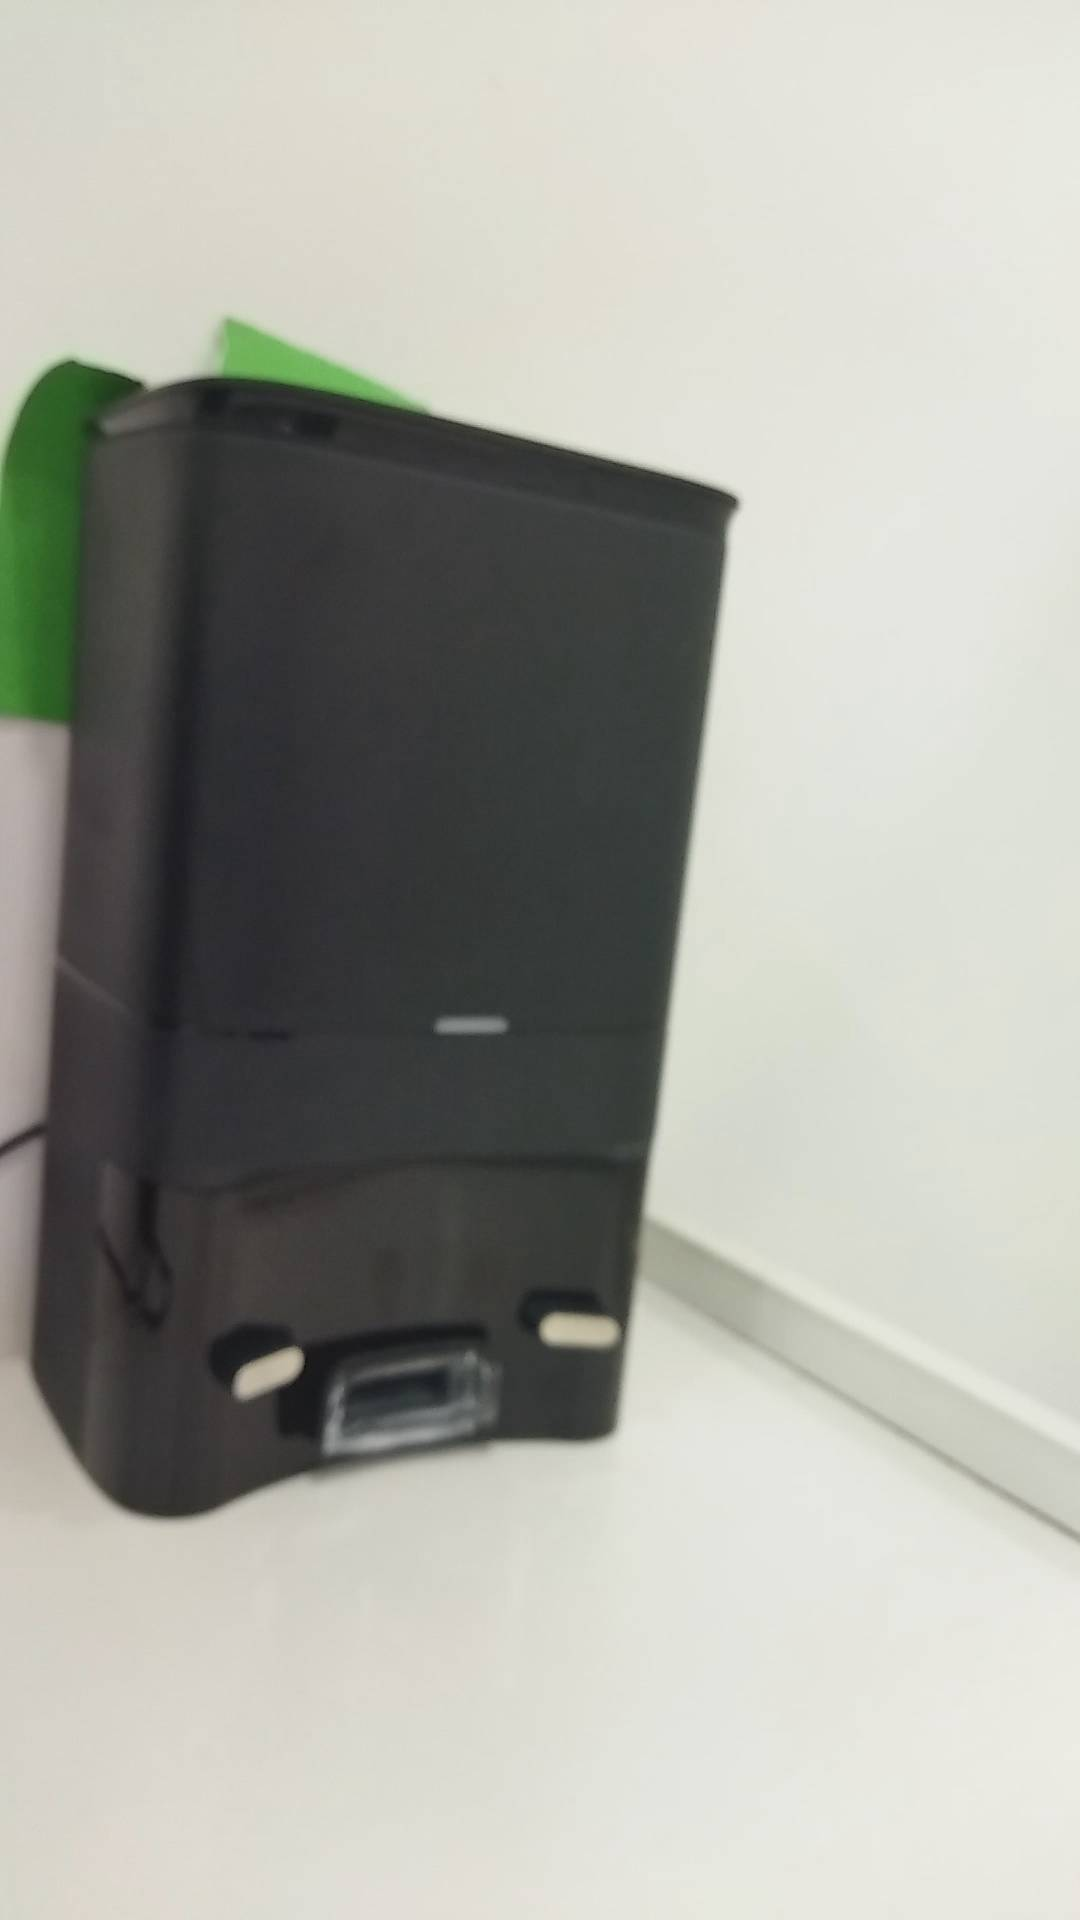dust collecting barrel: (36, 378, 737, 1518)
